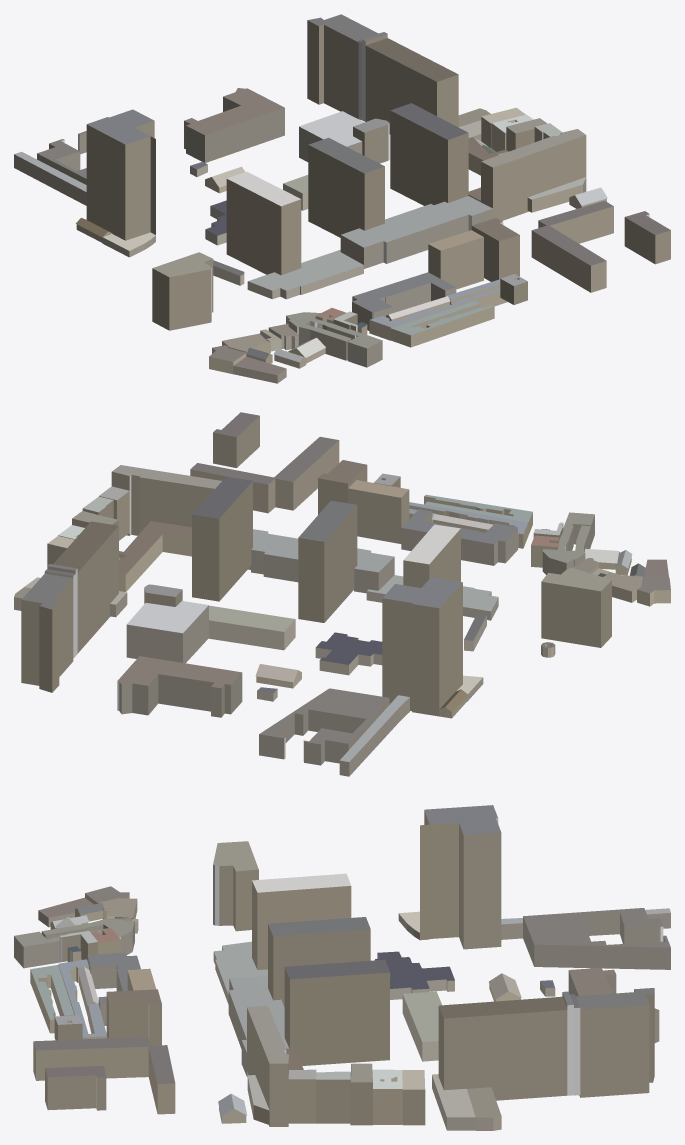
3 views of the same model, one above another, from view 1: azimuth 30°, elevation 25°; view 2: azimuth 150°, elevation 25°; view 3: azimuth 270°, elevation 25° (orthographic). The views are drawn at different scales.
Parts seen in each view (by area): view 1: tuile; view 2: tuile; view 3: tuile.
Part boxes in pixels (x1,y1,x2,y2): tuile: (14,14,670,383); tuile: (14,412,670,776); tuile: (14,805,670,1130).
Size of the model in its own units: 255 by 58.72 by 288.
